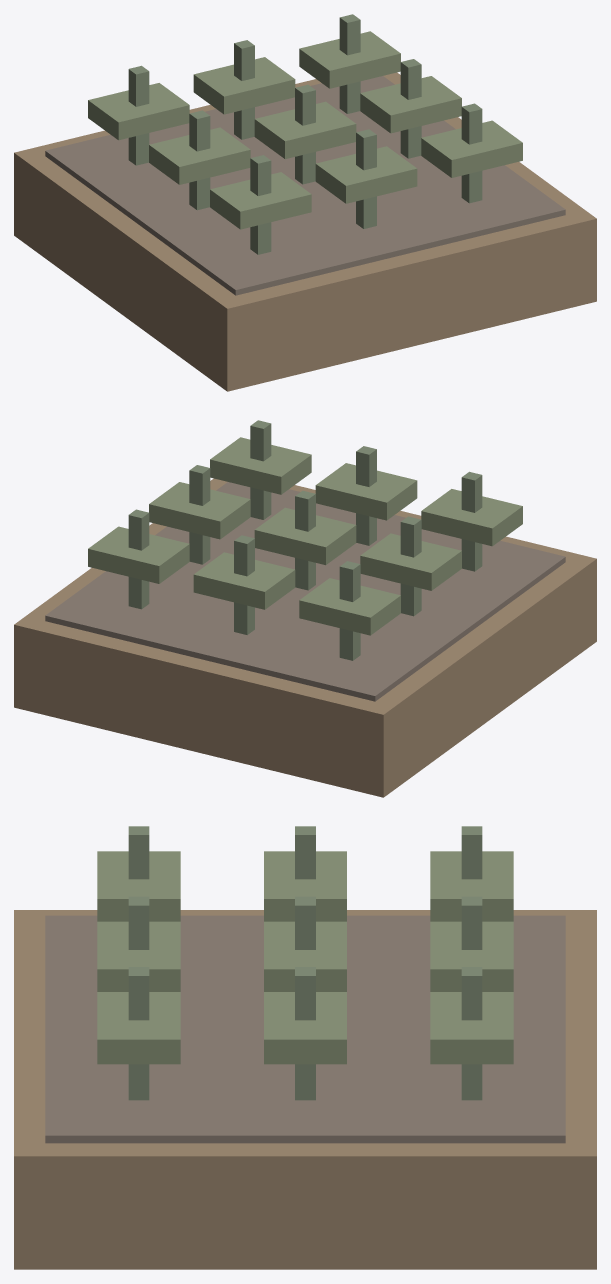
File: crop_bed.glb
3 views of the same model, one above another, from view 1: azimuth 30°, elevation 25°; view 2: azimuth 150°, elevation 25°; view 3: azimuth 270°, elevation 25° (orthographic). The views are drawn at different scales.
Visible parts, largest first — view 1: body; view 2: body; view 3: body.
Boxes of the visible parts, bbox=[...] form: body: bbox=[14, 14, 596, 391]; body: bbox=[14, 420, 596, 797]; body: bbox=[14, 826, 596, 1269].
Bounding box in the file's own units: 1.4 × 0.65 × 1.4.
